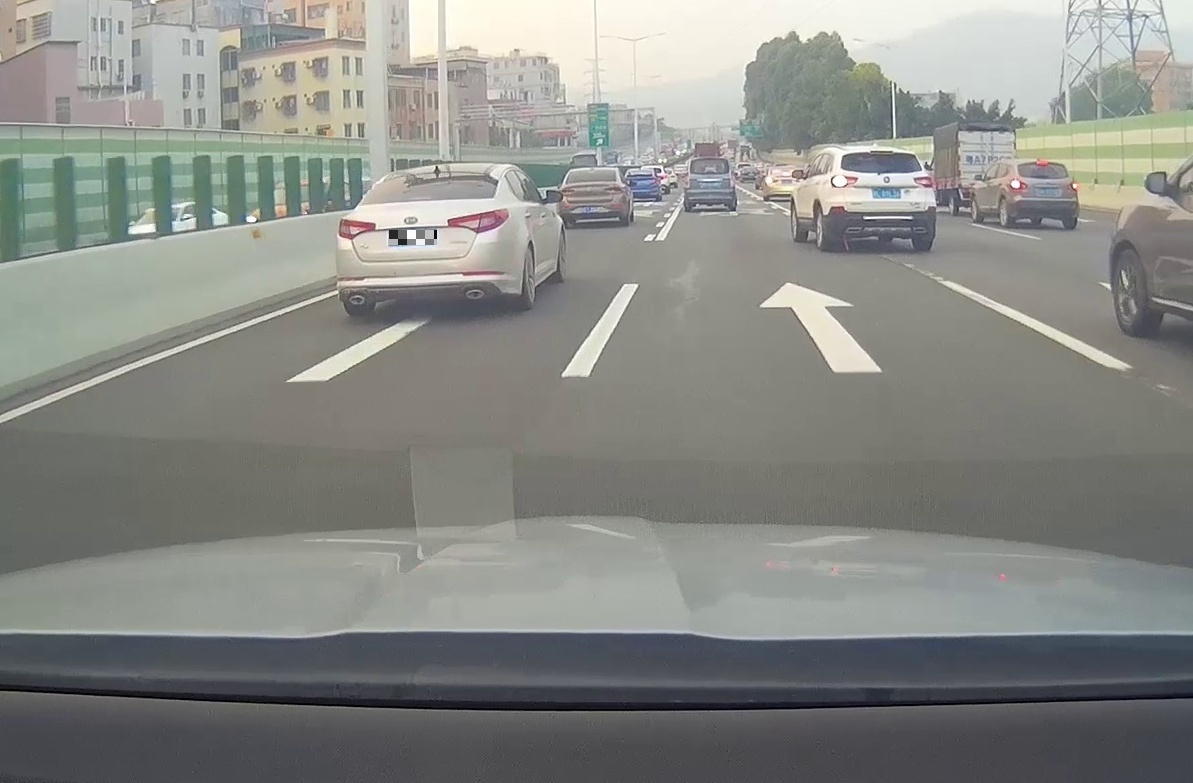L_light: (338, 218, 376, 238), (830, 175, 858, 188), (1010, 179, 1027, 190)
R_light: (447, 209, 509, 234), (915, 176, 935, 187), (1071, 182, 1078, 191)
T_light: (408, 195, 432, 200), (869, 150, 893, 155), (1037, 161, 1049, 165)
day-brake: (1007, 158, 1080, 228)
day-left: (825, 146, 937, 251)
day-no: (335, 165, 513, 315)
plate_1: (389, 230, 437, 245)
